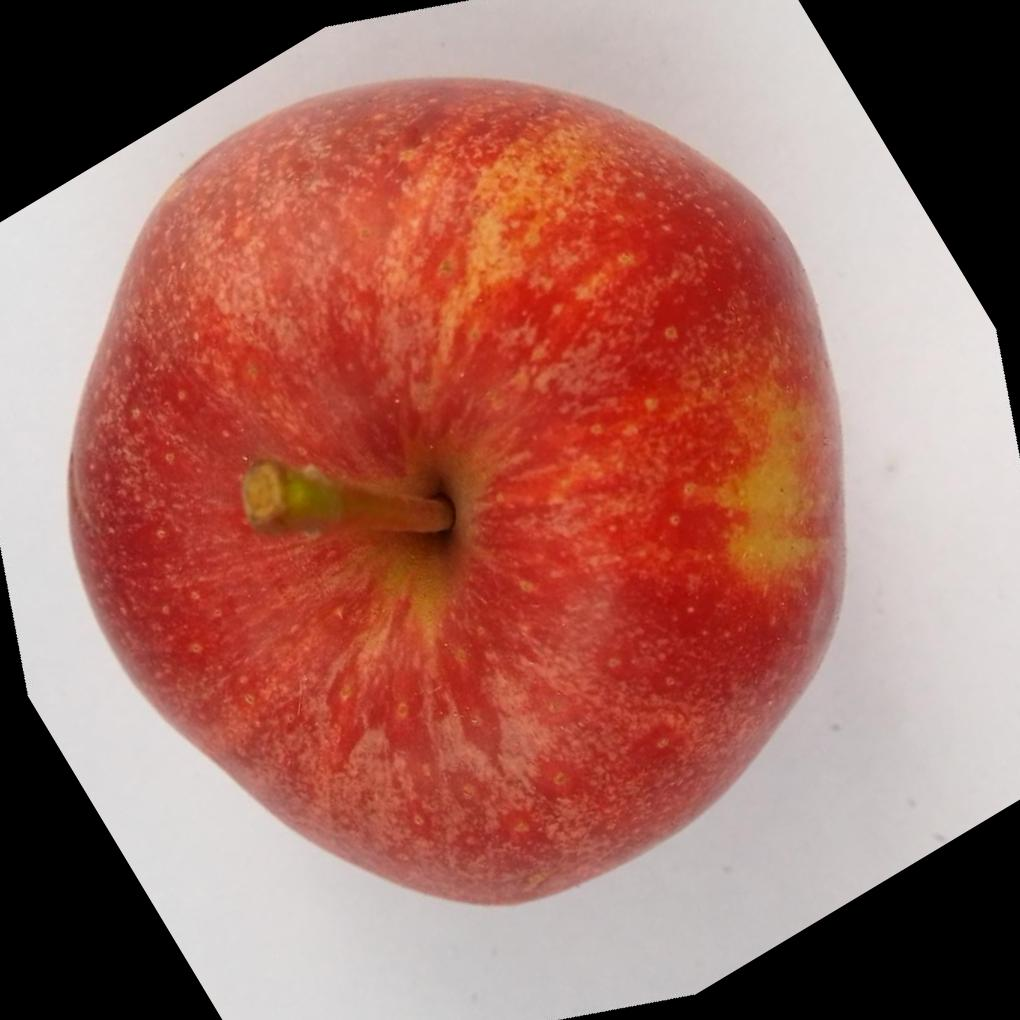FreshGuava: (61, 78, 845, 910)
